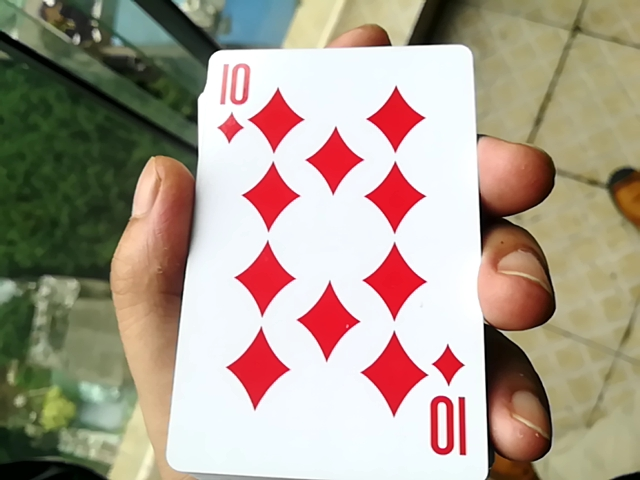fk 10: (157, 28, 489, 470)
